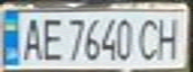0: (115, 15, 136, 62)
4: (100, 15, 121, 62)
6: (81, 15, 103, 62)
7: (63, 15, 84, 62)
A: (18, 15, 45, 62)
C: (136, 15, 163, 62)
E: (39, 15, 66, 62)
H: (154, 12, 187, 61)
